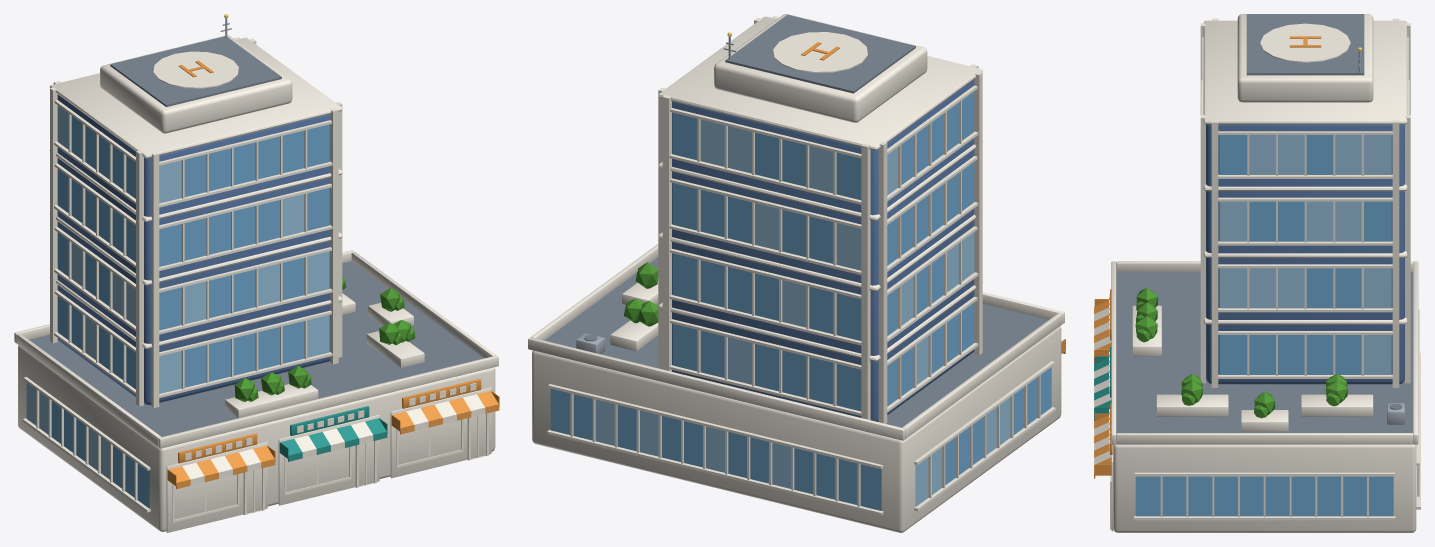
Rendered from building_skyscraper.glb.
The picture shows the model from 3 angles, left to right: view 1: azimuth 30°, elevation 25°; view 2: azimuth 150°, elevation 25°; view 3: azimuth 270°, elevation 25°; orthographic projection. The views are drawn at different scales.
Parts seen in each view (by area): view 1: building; view 2: building; view 3: building.
Boxes of the visible parts, x1=… form: building: x1=14, y1=14, x2=499, y2=532; building: x1=528, y1=14, x2=1065, y2=532; building: x1=1094, y1=14, x2=1420, y2=532.
Bounding box in the file's own units: 18.4 × 19.94 × 14.44.
